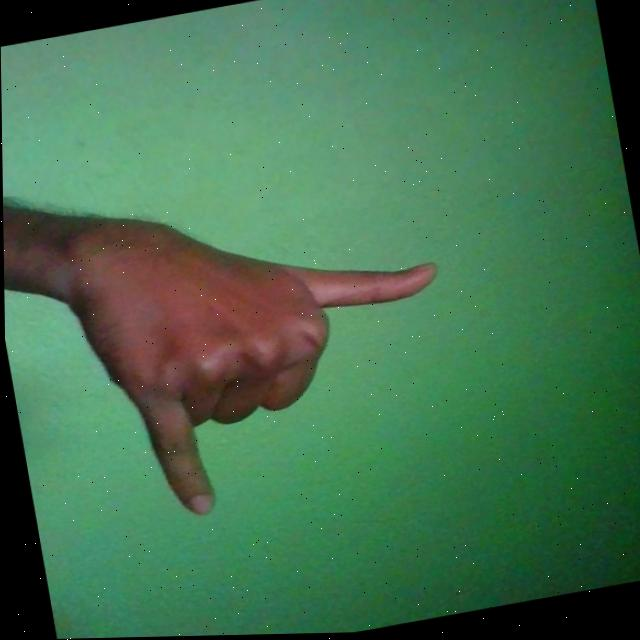Call Me: (57, 162, 469, 535)
